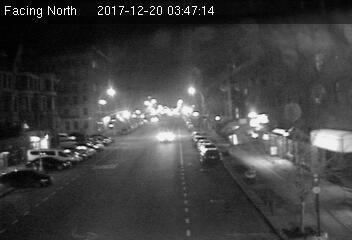car: (156, 129, 176, 143)
